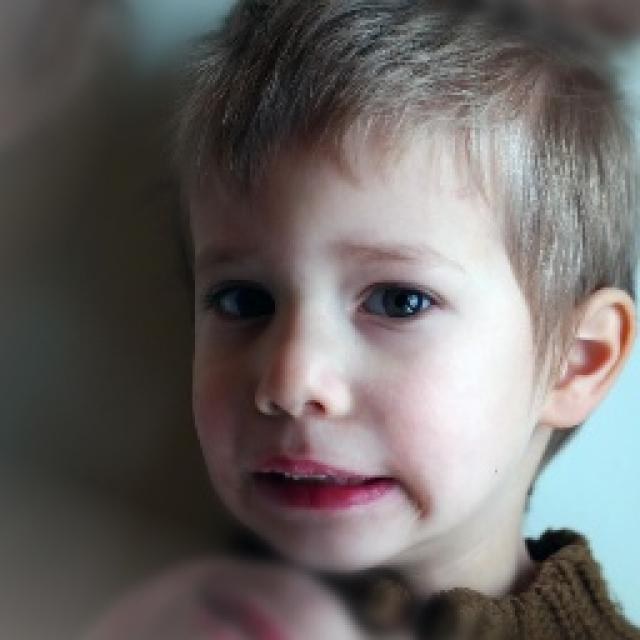no-glasses: (186, 239, 461, 357)
